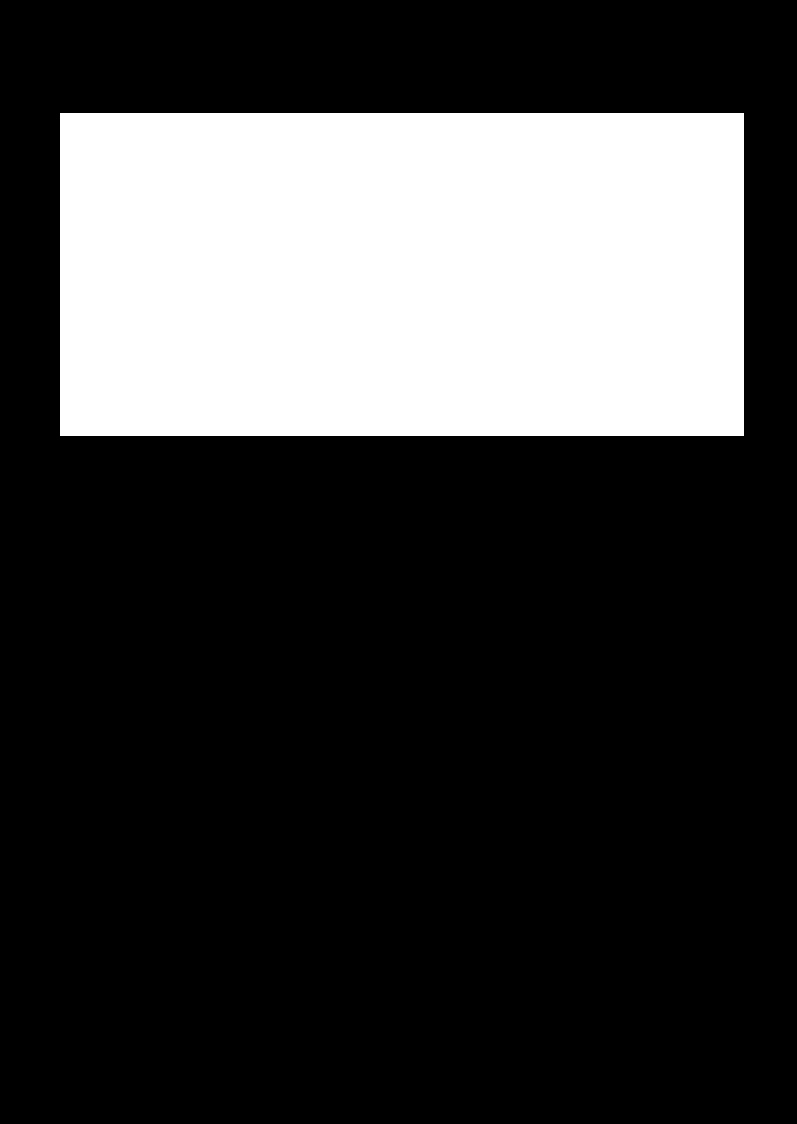table: (60, 113, 743, 435)
